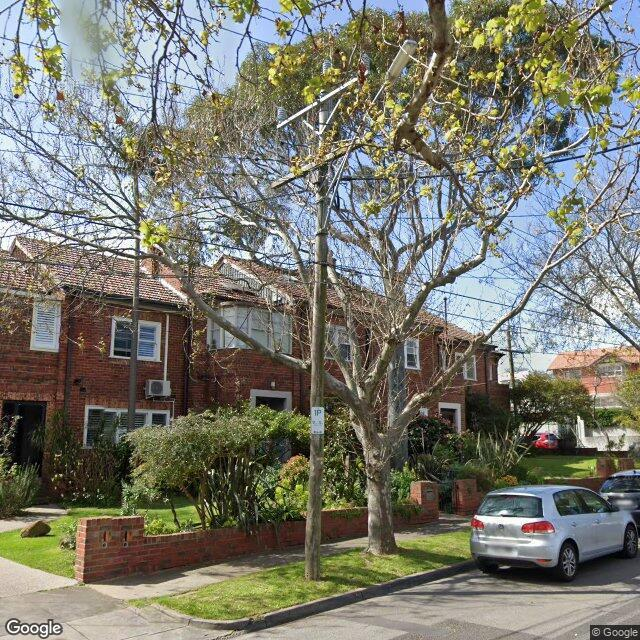HV-transmission: (277, 54, 370, 119)
crossarm: (270, 136, 372, 188), (278, 78, 358, 128), (497, 328, 523, 334), (500, 348, 526, 353)
streetlight: (320, 40, 418, 232)
timber-pole: (306, 89, 329, 581), (127, 170, 139, 434), (508, 323, 520, 438)
